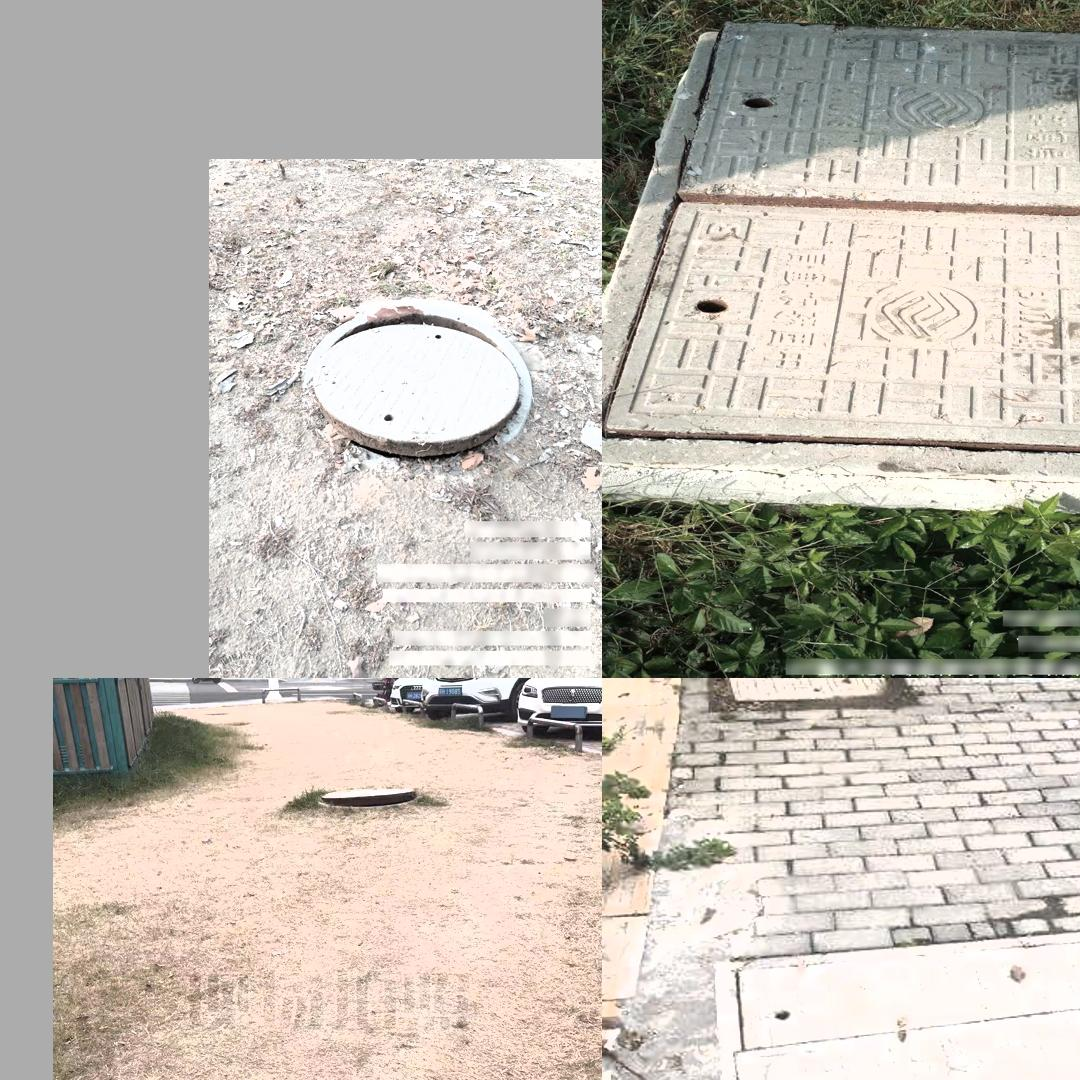uncovered: (602, 20, 1080, 512), (715, 930, 1080, 1080), (303, 303, 532, 476), (314, 778, 425, 814)
